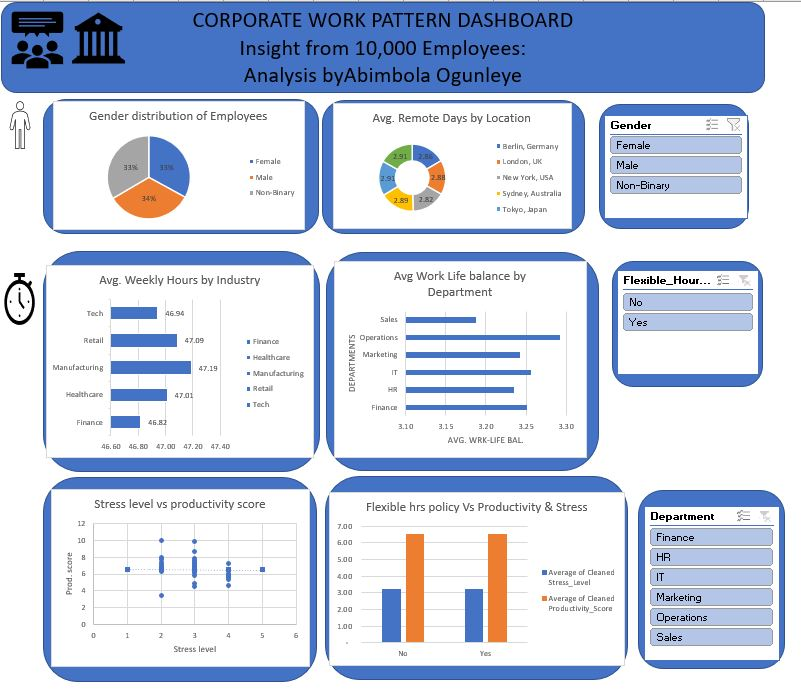

The dashboard page shown, as its layout file describes it:
{"tool":"powerbi","page":{"name":"Page 1","canvas":[1280,720],"ordinal":0},"visuals":[{"type":"pieChart","fields":{"Category":["DATA.Gender"],"Y":["CountNonNull(DATA.Employee_ID)"]},"box":[9.7,10.7,280.1,280.1],"z":0},{"type":"barChart","fields":{"Category":["DATA.Industry"],"Y":["Avg(DATA.Weekly_Hours)"]},"box":[9.7,300.5,463,242.2],"z":1},{"type":"pieChart","fields":{"Category":["DATA.Location"],"Y":["Avg(DATA.Remote_Days)"]},"box":[343.3,10.7,279.1,280.1],"z":2},{"type":"barChart","fields":{"Category":["DATA.Department"],"Y":["Avg(DATA.Work Life Balance Score)"]},"box":[483.4,300.5,344.3,280.1],"z":3},{"type":"scatterChart","fields":{"X":["Avg(DATA.Cleaned Stress Level)"],"Y":["Avg(DATA.Cleaned Productivity Score)"]},"box":[694.5,10.7,330.7,280.1],"z":4},{"type":"hundredPercentStackedColumnChart","fields":{"Category":["DATA.Flexible_Hours_Policy"],"Y":["Sum(DATA.Cleaned Productivity Score)","Sum(DATA.Cleaned Stress Level)"]},"box":[837.4,300.5,357.9,280.1],"z":5},{"type":"slicer","fields":{"Values":["DATA.Flexible_Hours_Policy"]},"box":[564.1,578.7,182.9,141],"z":6},{"type":"slicer","fields":{"Values":["DATA.Gender"]},"box":[0,542.7,299.6,177],"z":7},{"type":"slicer","fields":{"Values":["DATA.Department"]},"box":[300,543,173,177],"z":8}]}

Visuals, with their boxes on the page's 1280x720 design canvas (x1, y1, x2, y2). These are canvas units, not pixel positions in the 801x690 screenshot, which may show the page scaled, cropped or inside an application window:
pieChart - DATA.Gender x CountNonNull(DATA.Employee_ID): 10:11:290:291
barChart - DATA.Industry x Avg(DATA.Weekly_Hours): 10:300:473:543
pieChart - DATA.Location x Avg(DATA.Remote_Days): 343:11:622:291
barChart - DATA.Department x Avg(DATA.Work Life Balance Score): 483:300:828:581
scatterChart - Avg(DATA.Cleaned Stress Level) x Avg(DATA.Cleaned Productivity Score): 694:11:1025:291
hundredPercentStackedColumnChart - DATA.Flexible_Hours_Policy x Sum(DATA.Cleaned Productivity Score): 837:300:1195:581
slicer - DATA.Flexible_Hours_Policy: 564:579:747:720
slicer - DATA.Gender: 0:543:300:720
slicer - DATA.Department: 300:543:473:720
